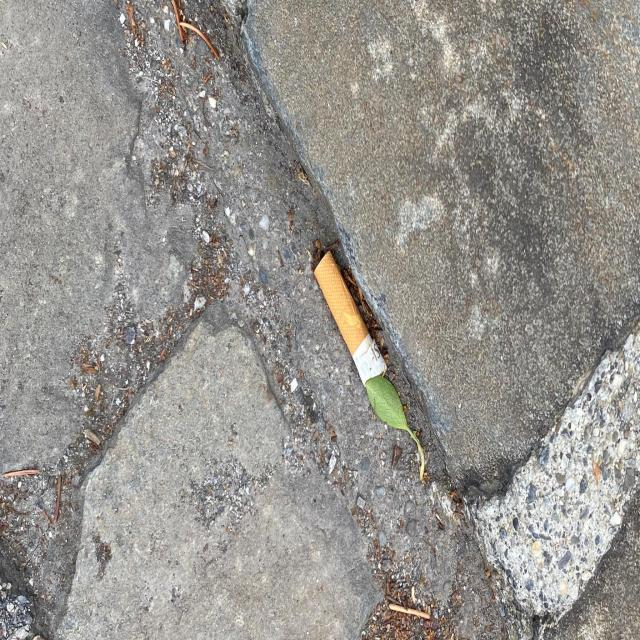other waste: (313, 247, 388, 389)
